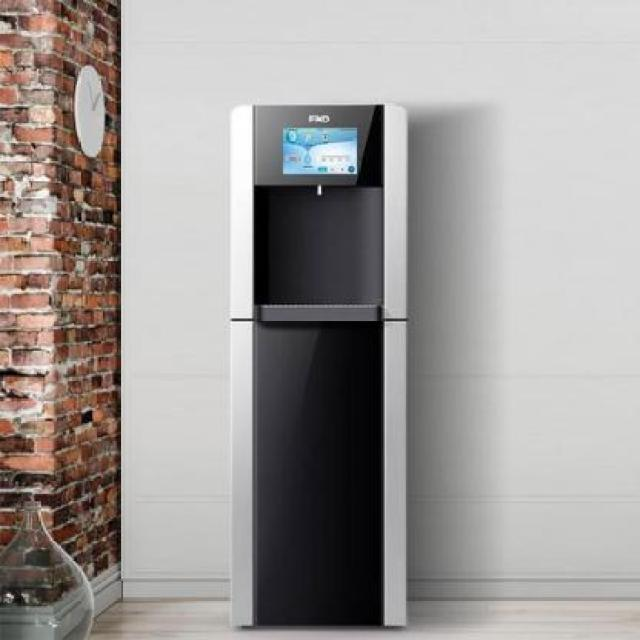cooler: (226, 98, 411, 634)
